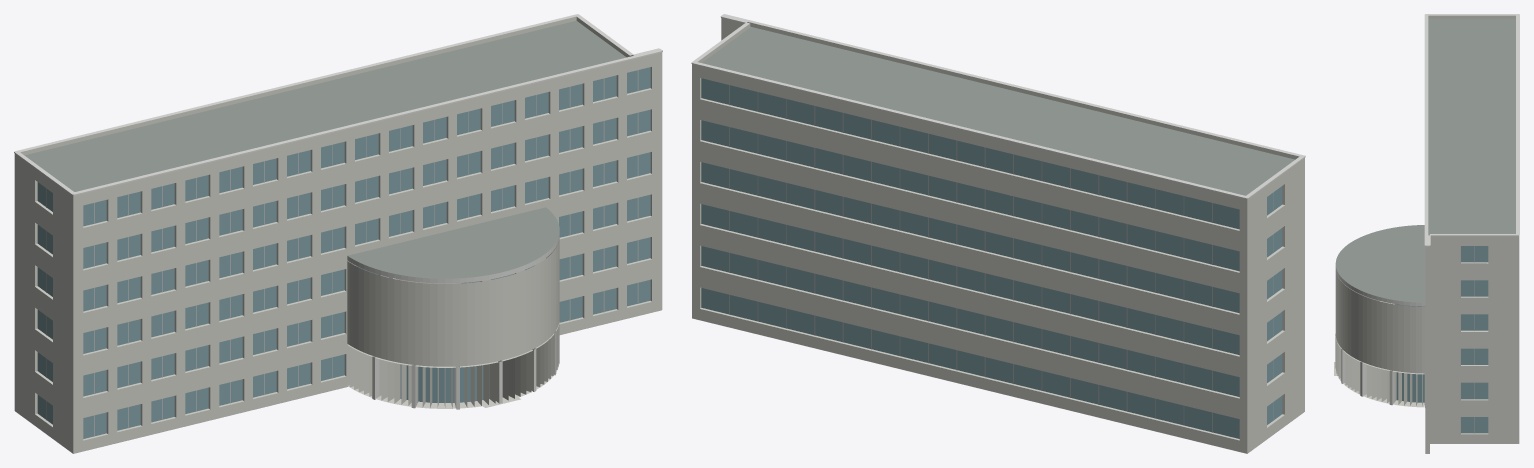
3 views of the same model, side by side, from view 1: azimuth 30°, elevation 25°; view 2: azimuth 150°, elevation 25°; view 3: azimuth 270°, elevation 25° (orthographic). The views are drawn at different scales.
Visible parts, largest first — view 1: asan__wall, asan__glass, asan__roof, asan__trim, asan__parapet, asan__frame; view 2: asan__wall, asan__glass, asan__roof, asan__parapet, asan__trim, asan__frame; view 3: asan__wall, asan__roof, asan__trim, asan__glass, asan__parapet.
Boxes of the visible parts, left/top/right/bottom form: asan__wall: left=14, top=55, right=662, bottom=453; asan__glass: left=37, top=67, right=650, bottom=438; asan__roof: left=15, top=20, right=661, bottom=453; asan__trim: left=14, top=14, right=662, bottom=409; asan__parapet: left=14, top=16, right=662, bottom=198; asan__frame: left=46, top=70, right=638, bottom=436; asan__wall: left=692, top=20, right=1304, bottom=453; asan__glass: left=701, top=78, right=1282, bottom=438; asan__roof: left=692, top=26, right=1303, bottom=453; asan__parapet: left=692, top=18, right=1304, bottom=201; asan__trim: left=691, top=14, right=1305, bottom=199; asan__frame: left=729, top=85, right=1273, bottom=432; asan__wall: left=1335, top=238, right=1519, bottom=453; asan__roof: left=1335, top=19, right=1518, bottom=453; asan__trim: left=1335, top=14, right=1519, bottom=407; asan__glass: left=1395, top=246, right=1488, bottom=433; asan__parapet: left=1425, top=15, right=1519, bottom=248.
Bounding box in the file's own units: 52.3 × 21.97 × 17.72.
